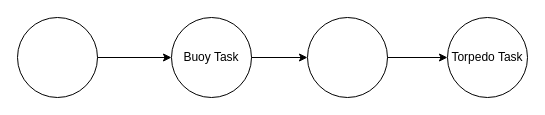
Image size: 545x115. Some labels were removed from this diagram. The shapes that lost their labels are listed below. From the top down, each one's centre as x and y in pixels, then its label:
At point 57,57: "Gate Task".
At point 347,57: "Manipulator Task".
